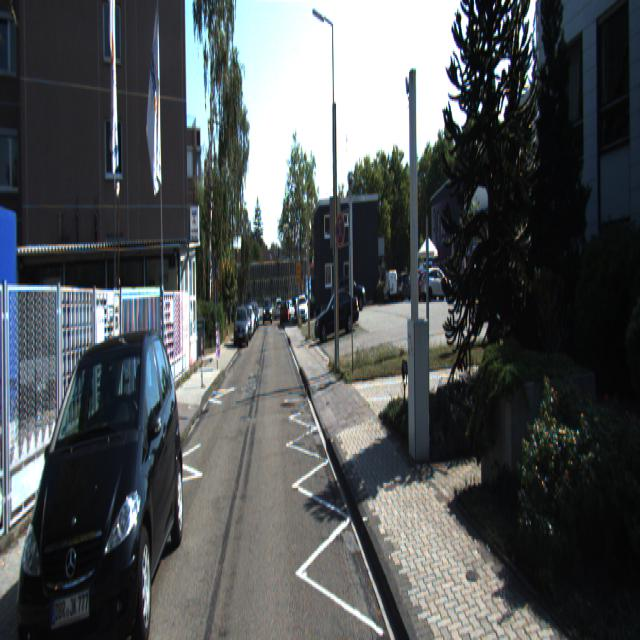Car: (7, 326, 185, 638), (313, 288, 362, 346), (233, 305, 250, 349), (383, 268, 398, 302)
